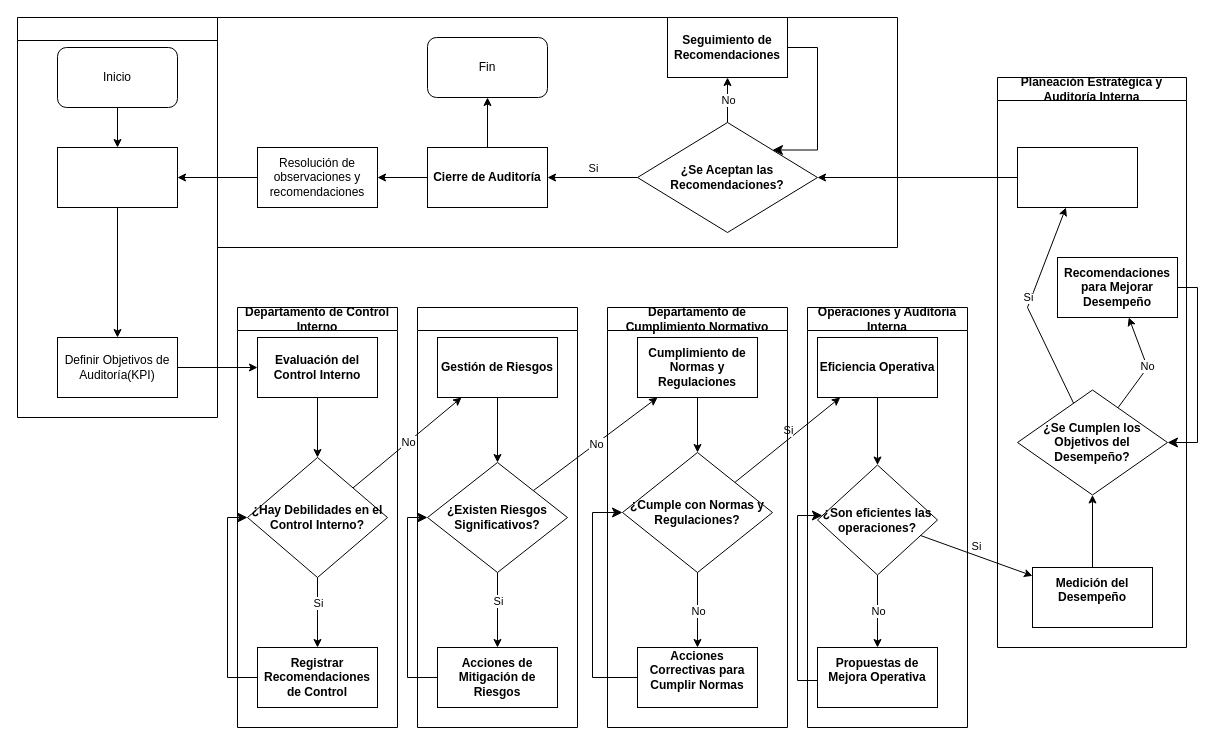
Some shapes in this 1225 by 745 pixel diagram are drawn without their labels. The shapes that lost their labels are listed below. From the top down, each one's box as (x1, y1, x2, y2) in pixels, then its label:
(56, 146, 178, 208): Establecer Objetivos del Desempeño
(1016, 146, 1138, 208): Elaboración de Informes y Recomendaciones
(16, 16, 218, 418): Gerencia de Auditoría Interna
(416, 306, 578, 728): Departamento de Gestión de Riesgos
